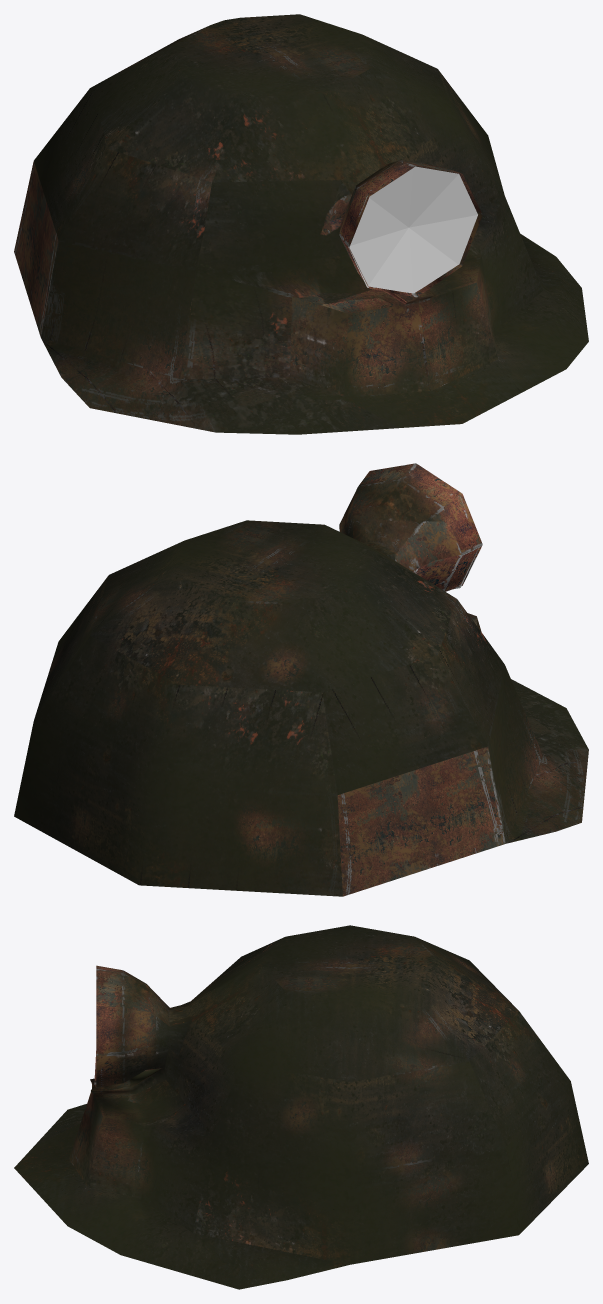
The model's file is madenkask.fbx.
3 views of the same model, one above another, from view 1: azimuth 30°, elevation 25°; view 2: azimuth 150°, elevation 25°; view 3: azimuth 270°, elevation 25° (orthographic). The views are drawn at different scales.
Parts seen in each view (by area): view 1: Sphere, Circle; view 2: Sphere; view 3: Sphere.
Boxes of the visible parts, left/top/right/bottom form: Sphere: left=14, top=14, right=588, bottom=434; Circle: left=348, top=166, right=477, bottom=293; Sphere: left=14, top=463, right=588, bottom=896; Sphere: left=14, top=925, right=588, bottom=1289.
Size of the model in its own units: 213 by 101 by 241.
3 materials, 1 textured.
